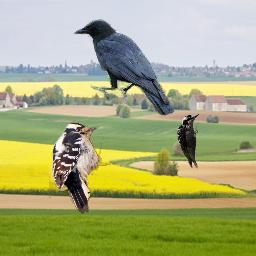Crow: (73, 19, 175, 118)
Woodpecker: (49, 121, 111, 214), (175, 111, 202, 171)
